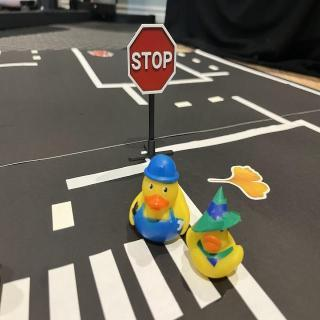duck_regular: (187, 188, 245, 281)
duck_specialty: (131, 155, 193, 246)
road_crosswalk: (1, 223, 226, 320)
sign_stop: (128, 26, 178, 98)
